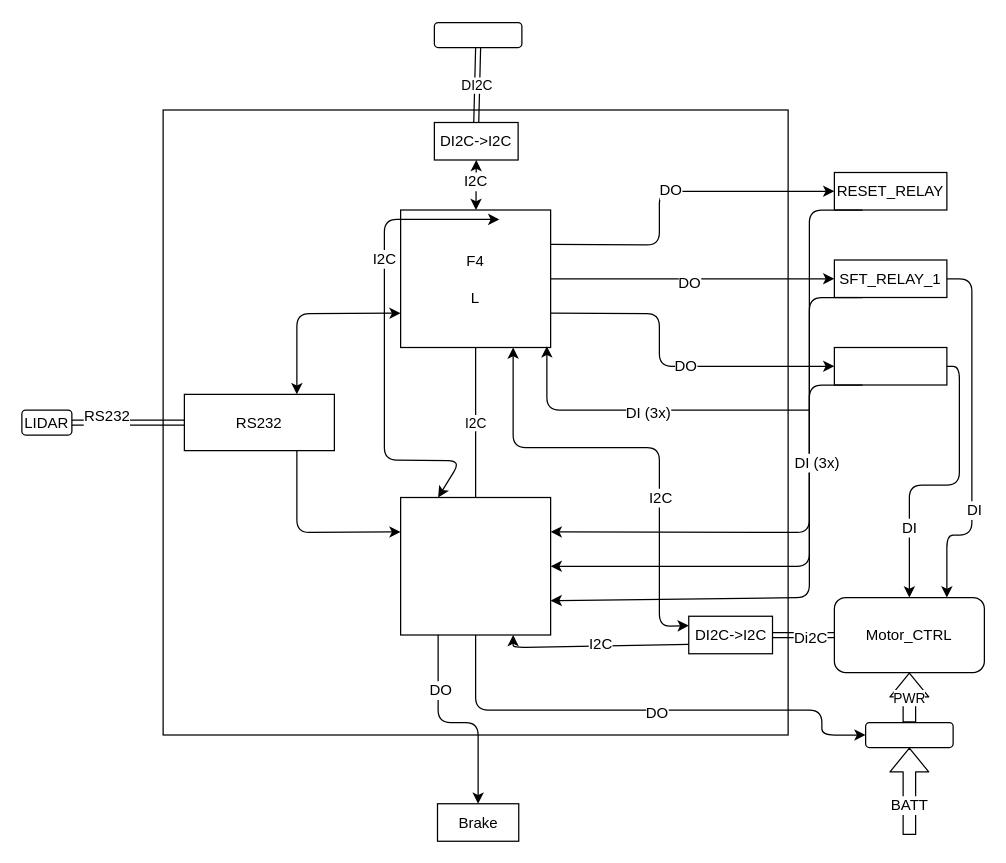
This 1006x863 diagram has some shape labels left out. Each missing label, with the centre of its shape:
"F4 TE" belongs at pixel 475 565.
"PWR_CTRL" belongs at pixel 908 734.
"Roboard" belongs at pixel 477 34.
"SFT_RELAY_2" belongs at pixel 890 365.
